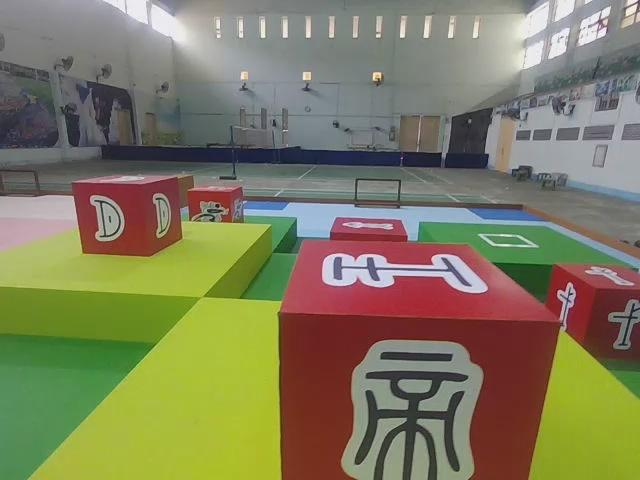R1: (190, 187, 245, 227)
R2 Fake: (279, 243, 565, 480)
R2 Real: (548, 258, 640, 361), (73, 178, 182, 256)
